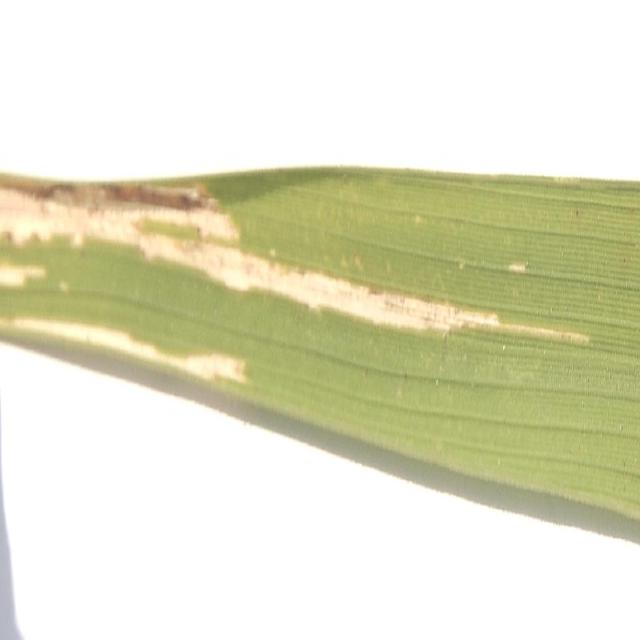Bacterial_Leaf_Blight: (1, 136, 600, 423)
